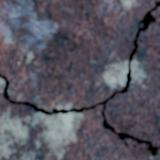brick: (0, 18, 159, 159), (0, 0, 155, 110), (153, 8, 159, 17)
crack: (0, 0, 159, 158)
